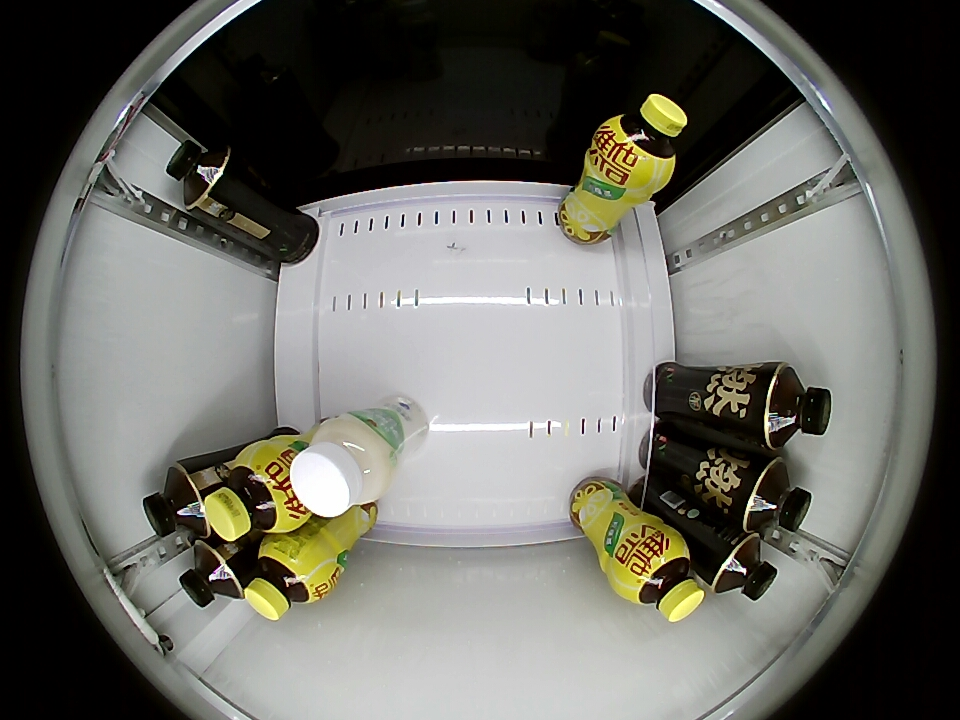rancha-1: (759, 364, 832, 451), (740, 457, 812, 535), (143, 464, 211, 540), (178, 538, 246, 609), (710, 532, 778, 602), (165, 139, 231, 209)
weitaningmeng-bottle: (204, 445, 302, 541), (597, 93, 688, 185), (617, 533, 705, 623), (244, 538, 329, 621)
yousuanru: (290, 415, 395, 519)
